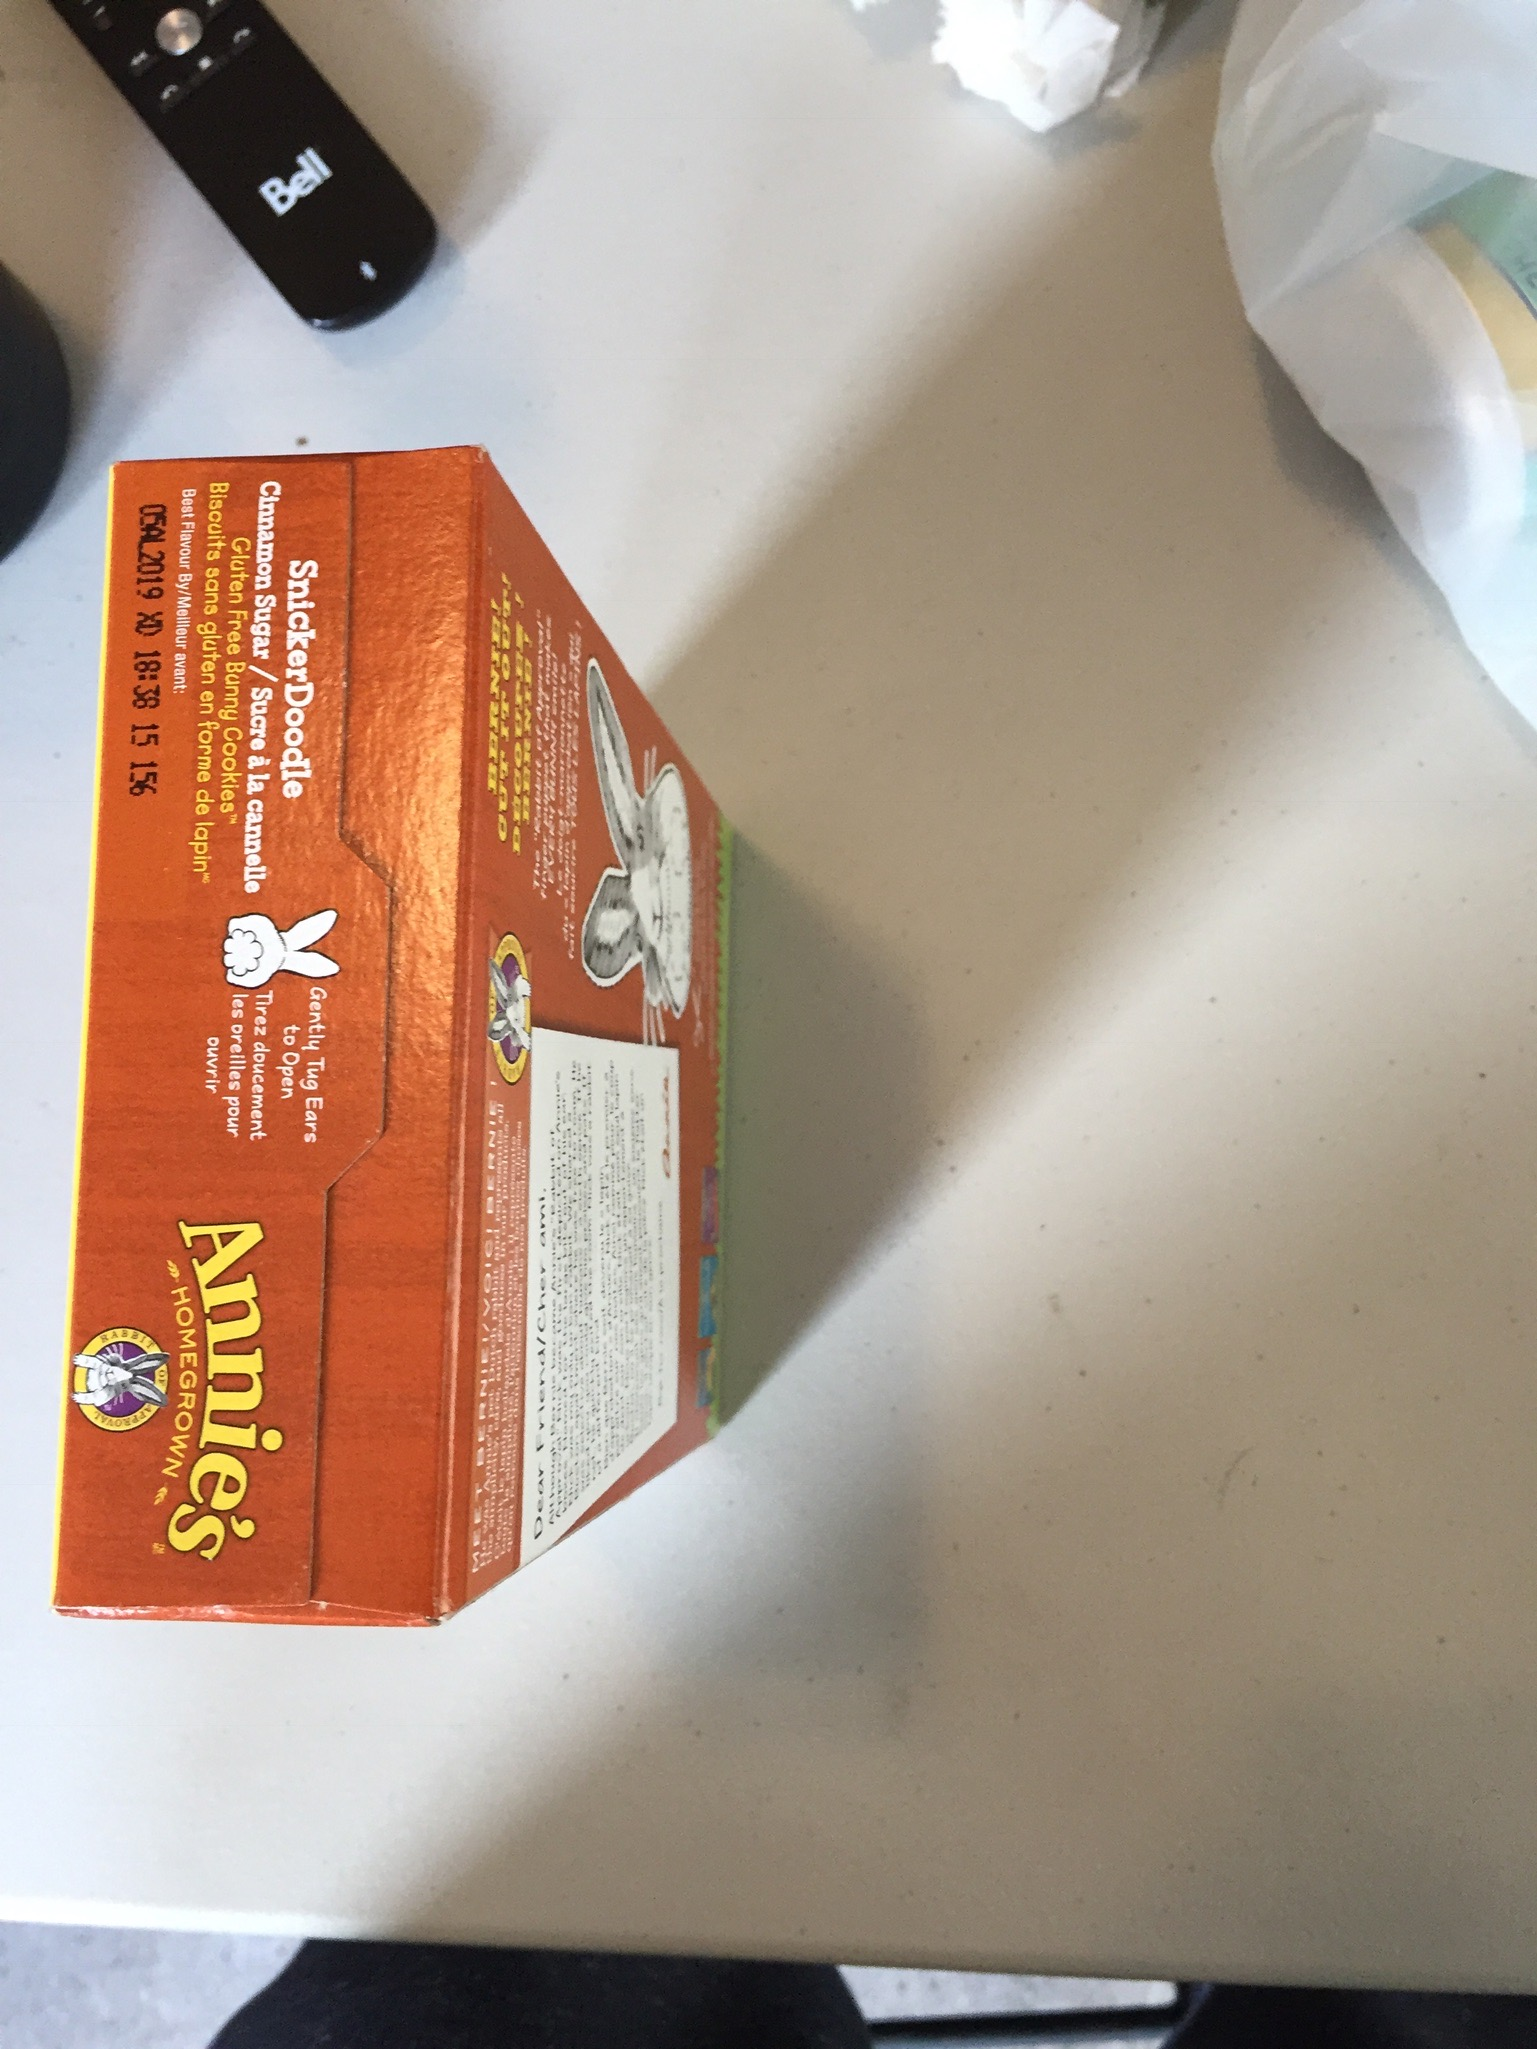annies_snickerdoodle_cinnamon_sugar: (115, 471, 480, 1594)
